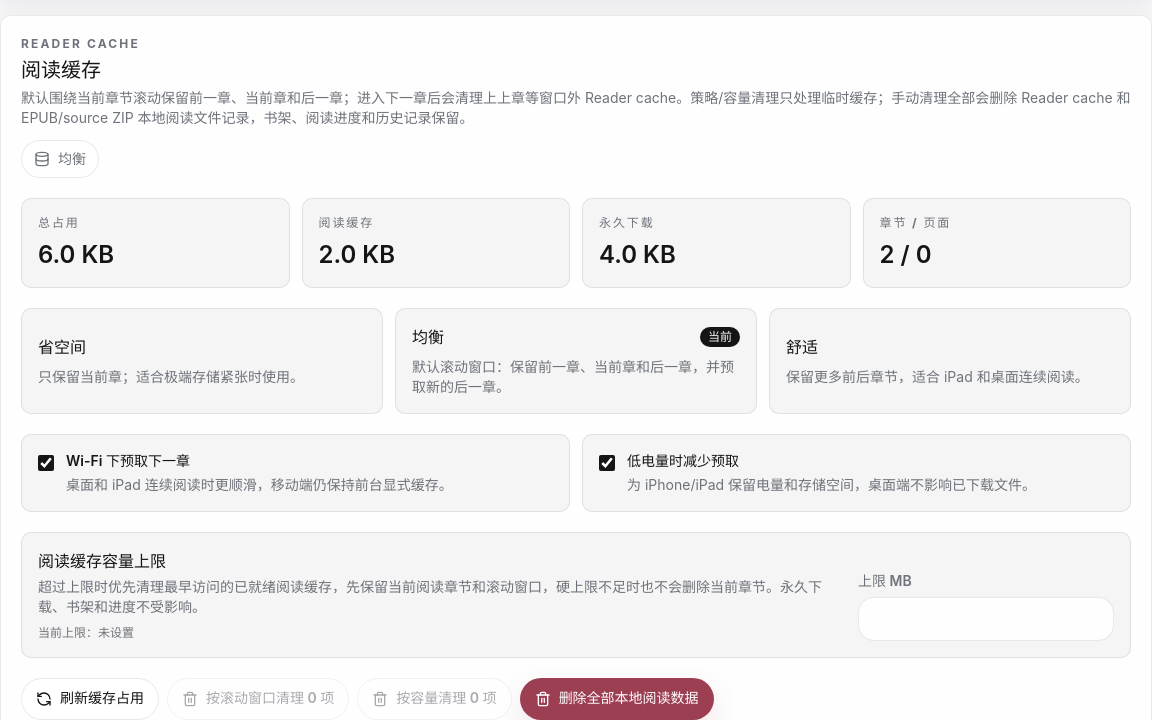
Settings native config sync › shows local reader cache stats, updates policy, and does not fake device deletion in browser preview
The image size is (1152, 720).
(page scrolled)
Expected: the text "2.0 KB" is shown, top-left (318, 240), bottom-right (395, 269)
Expected: the text "4.0 KB" is shown, top-left (599, 240), bottom-right (676, 269)
Step 1. Click the button "省空间 只保留当前章；适合极端存储紧张时使用。" → (62, 347), box top-left (21, 308), bottom-right (383, 414)
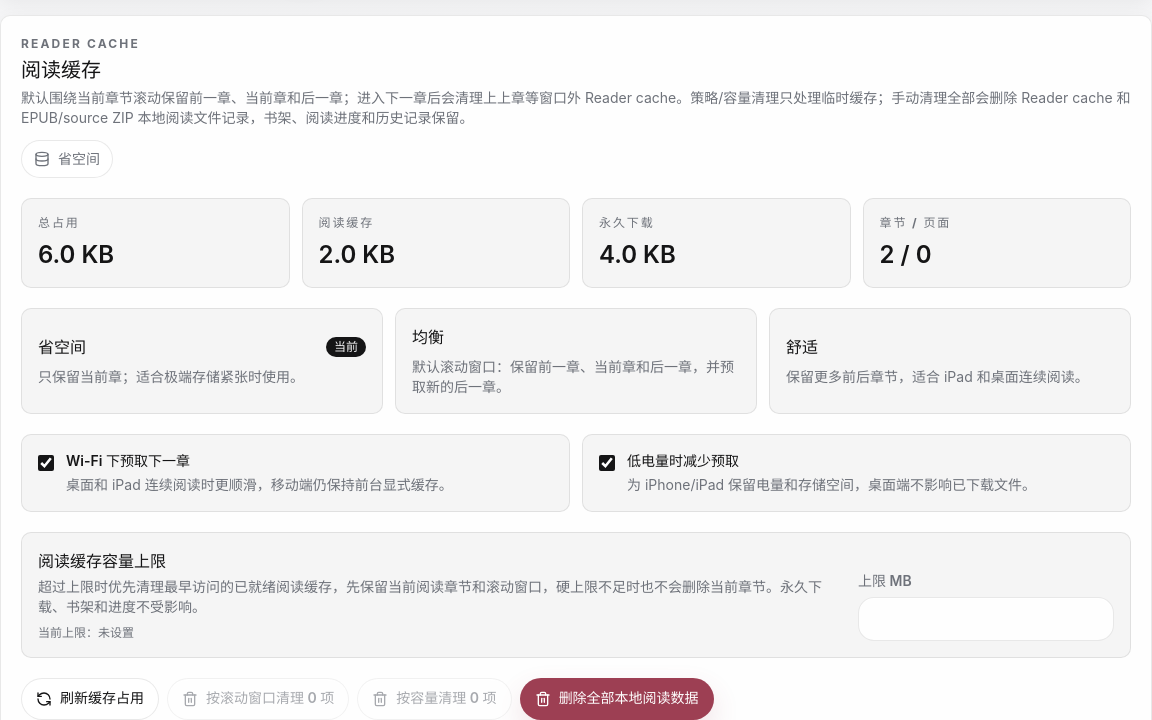
Step 2. Click the button "删除全部本地阅读数据" → (617, 699), box top-left (520, 678), bottom-right (714, 719)
(page scrolled)
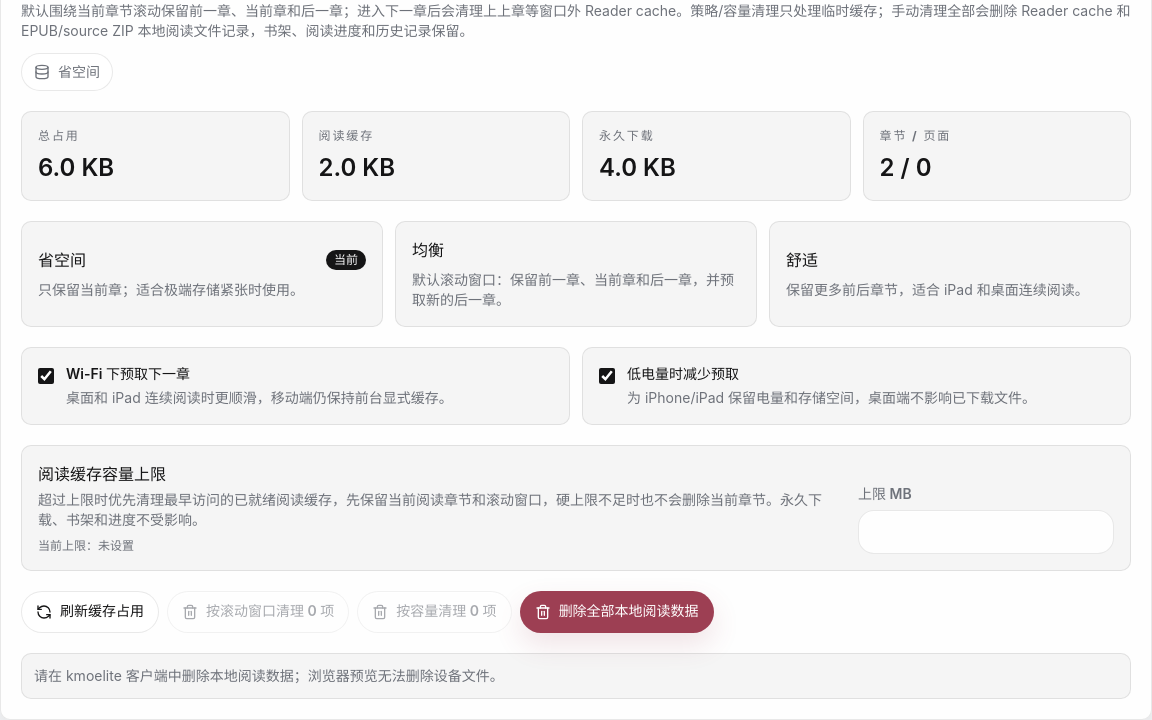
Expected: the text "请在 kmoelite 客户端中删除本地阅读数据；浏览器预览无法删除设备文件。" is shown, top-left (21, 653), bottom-right (1131, 699)
